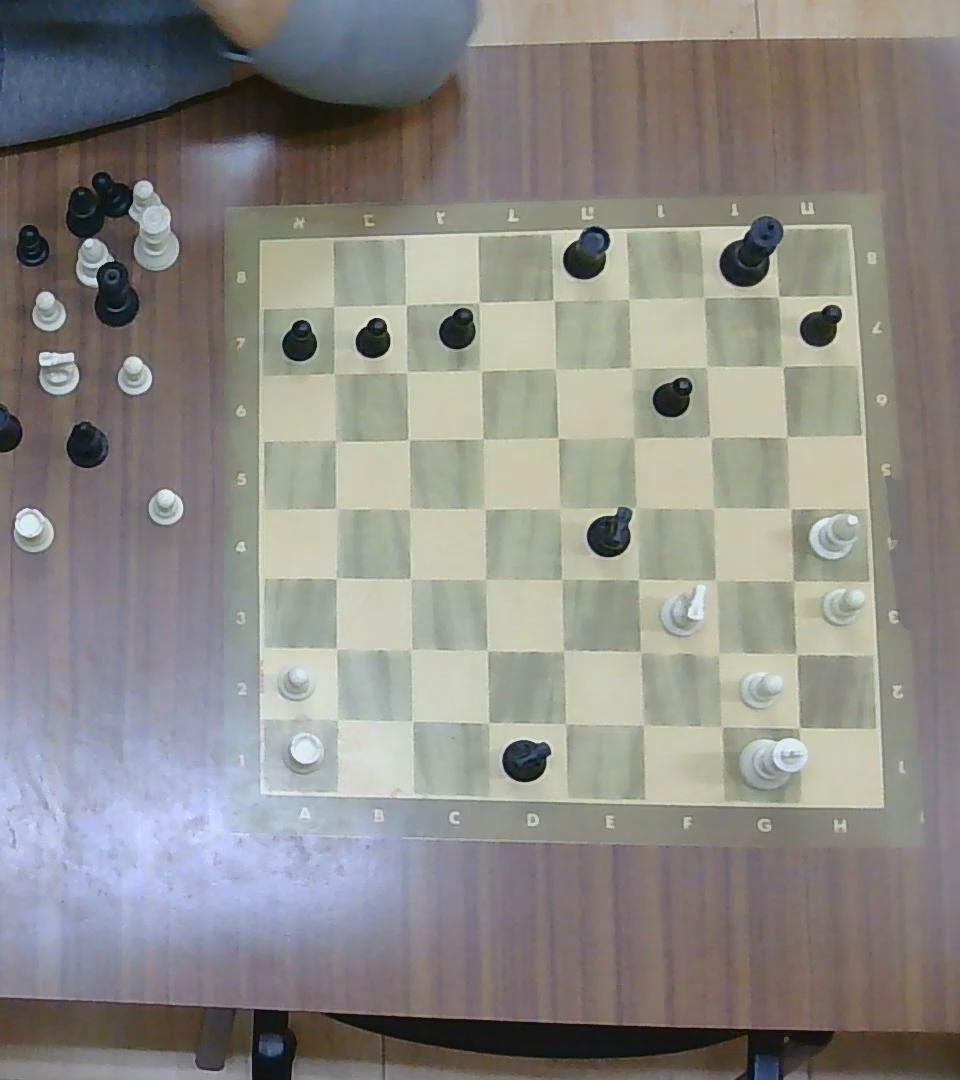xcorner: (703, 708, 737, 742), (781, 710, 815, 743), (702, 636, 734, 669), (626, 707, 658, 740), (781, 637, 812, 668), (320, 703, 351, 734), (625, 635, 655, 667), (548, 707, 580, 737), (472, 706, 502, 738), (548, 634, 578, 665), (396, 705, 427, 735), (470, 563, 500, 594), (471, 634, 501, 664), (700, 565, 730, 595), (623, 563, 652, 594), (548, 563, 577, 594), (698, 493, 728, 522), (776, 493, 806, 522), (621, 493, 651, 522), (395, 635, 424, 664), (393, 424, 422, 453), (321, 562, 350, 591), (321, 633, 350, 662), (619, 422, 648, 451), (777, 566, 807, 594), (471, 493, 499, 522), (545, 493, 573, 522), (545, 422, 573, 451), (467, 422, 495, 451), (323, 493, 351, 522), (616, 352, 645, 380), (395, 564, 423, 592), (539, 286, 567, 314), (396, 493, 423, 522), (321, 425, 350, 452), (615, 285, 643, 312), (698, 423, 725, 450), (542, 354, 569, 381), (693, 352, 720, 379), (690, 283, 717, 310), (768, 352, 795, 379), (772, 422, 800, 448), (467, 354, 493, 381), (321, 360, 349, 385), (393, 356, 419, 382), (766, 284, 791, 309), (466, 289, 491, 314), (393, 291, 419, 315), (323, 293, 345, 317)
